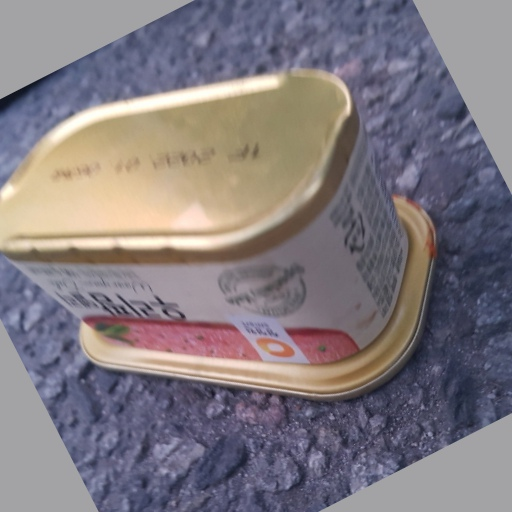Metal_2: (1, 70, 441, 397)
